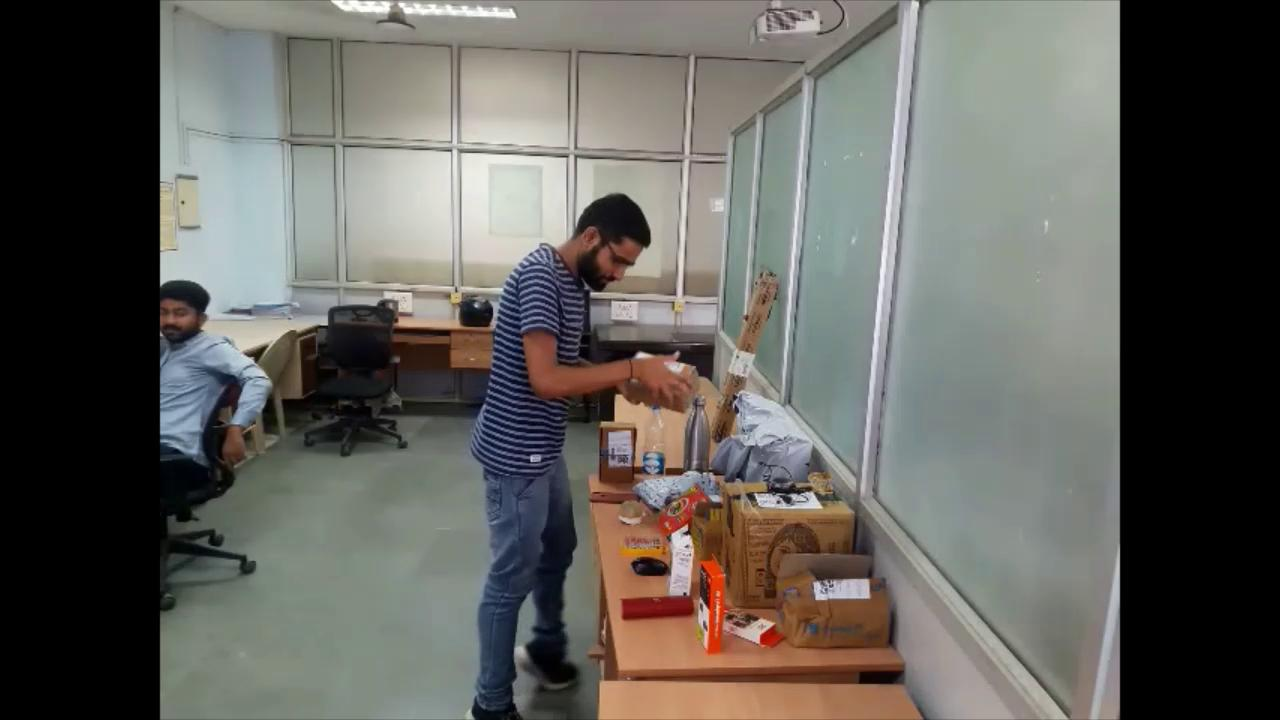Normal: (467, 166, 691, 720)
